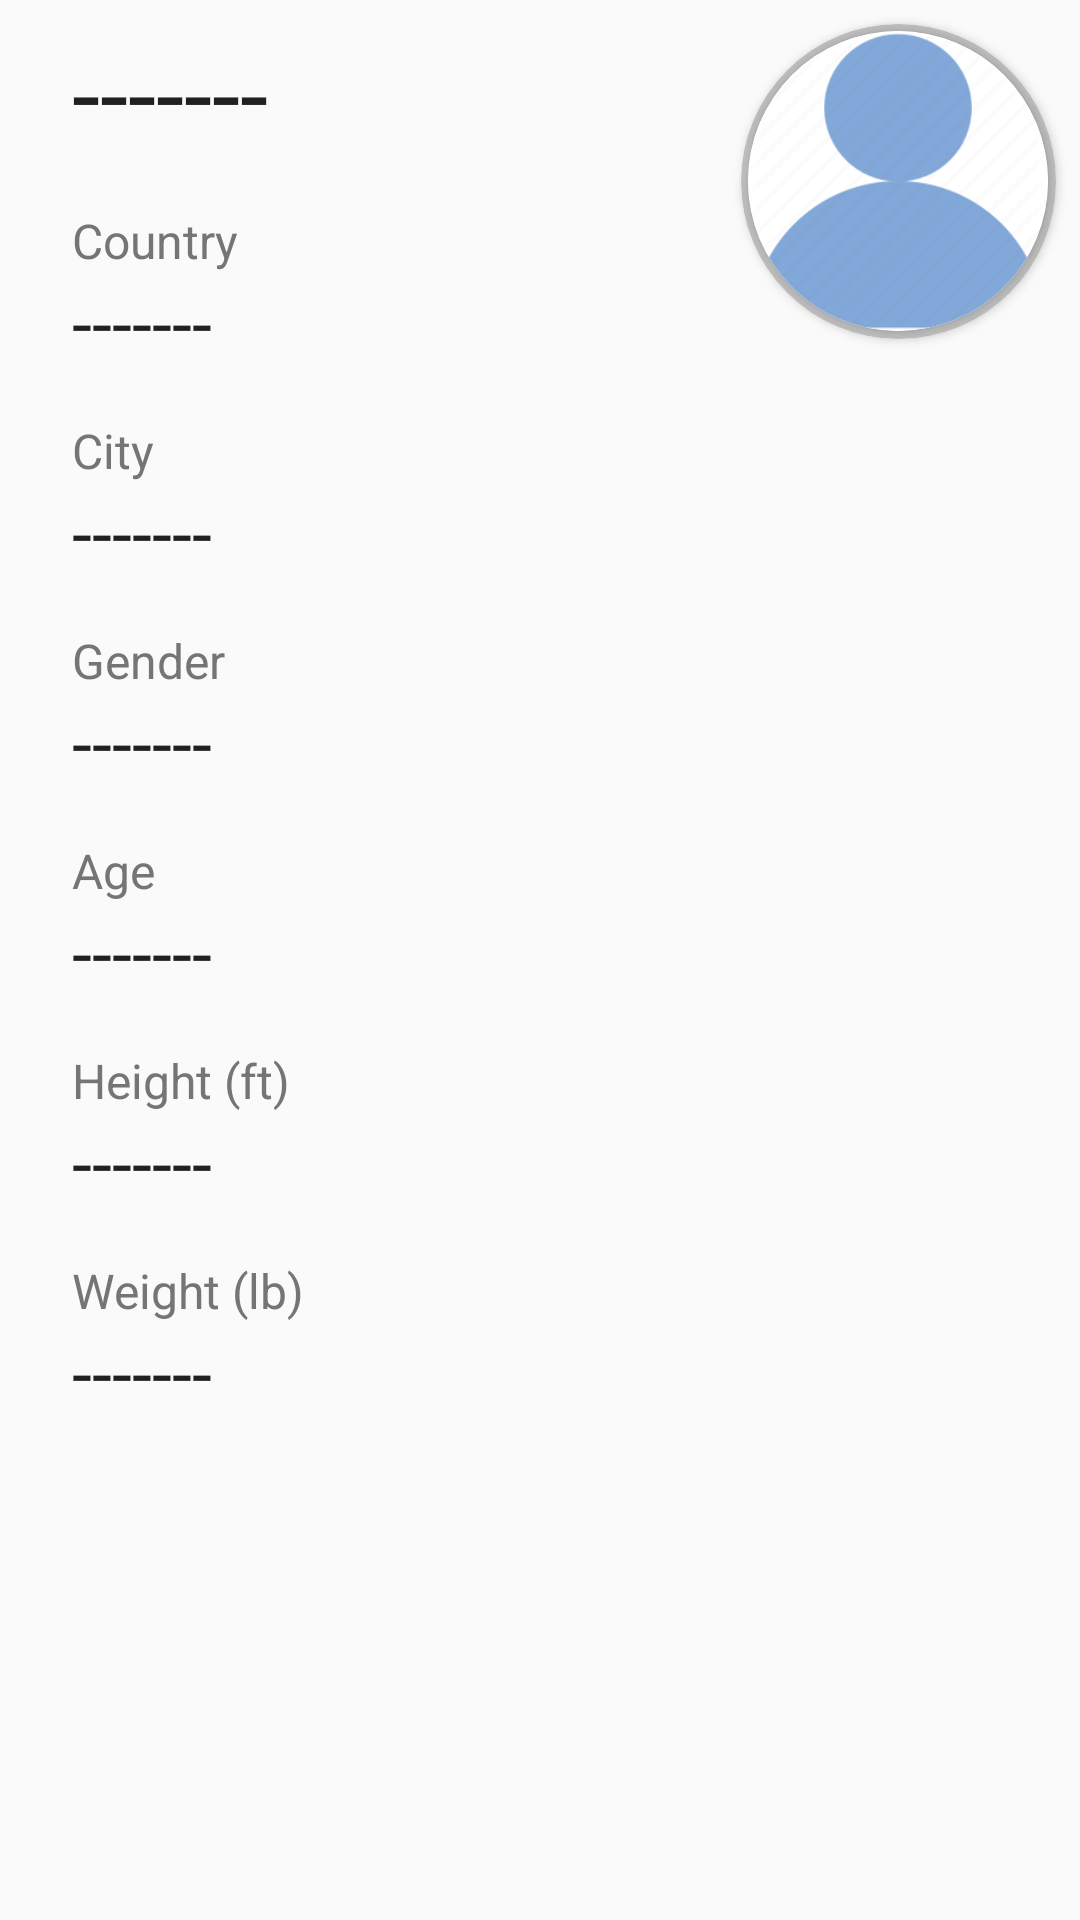

Where to tap for icons on this 1080×1920 app screen, as [x,y]:
profile: [898,181]
